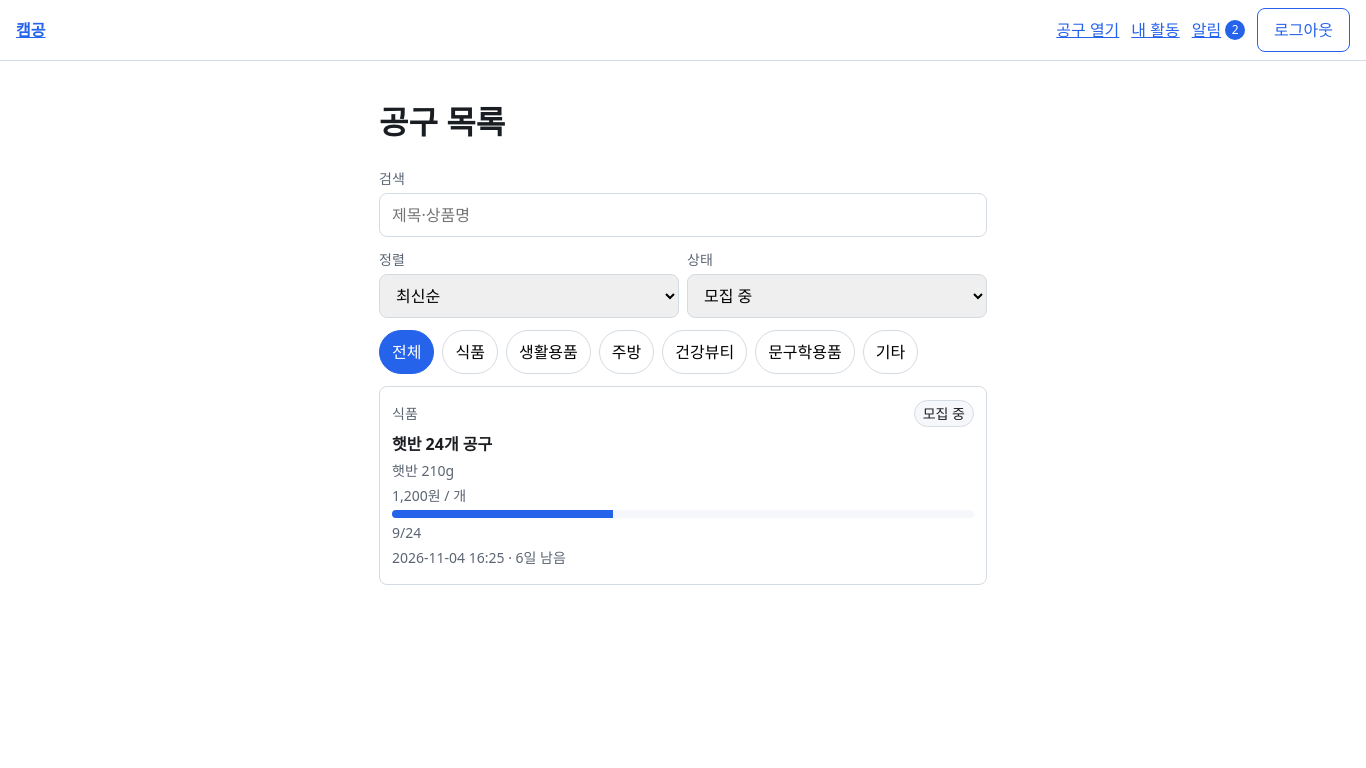
Scenario: 로그아웃 실패 (검수 3) › 서버 로그아웃이 실패하면 안내하고 로그인 상태를 유지한다
Click the button "로그아웃". click: click(1304, 30)
box: [1257,8,1350,52]
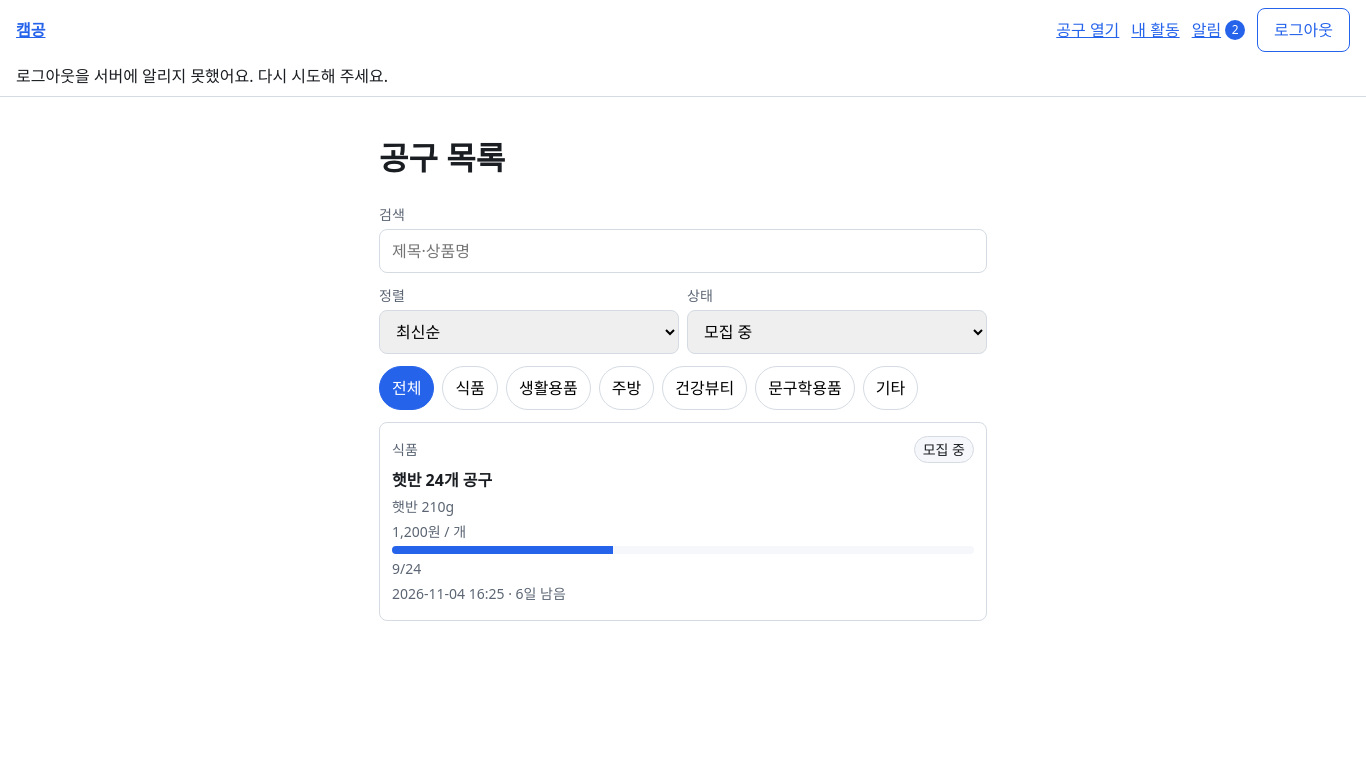
Check: the text "로그아웃을 서버에 알리지 못했어요. 다시 시도해 주세요." is shown, box [16,65,388,87]
